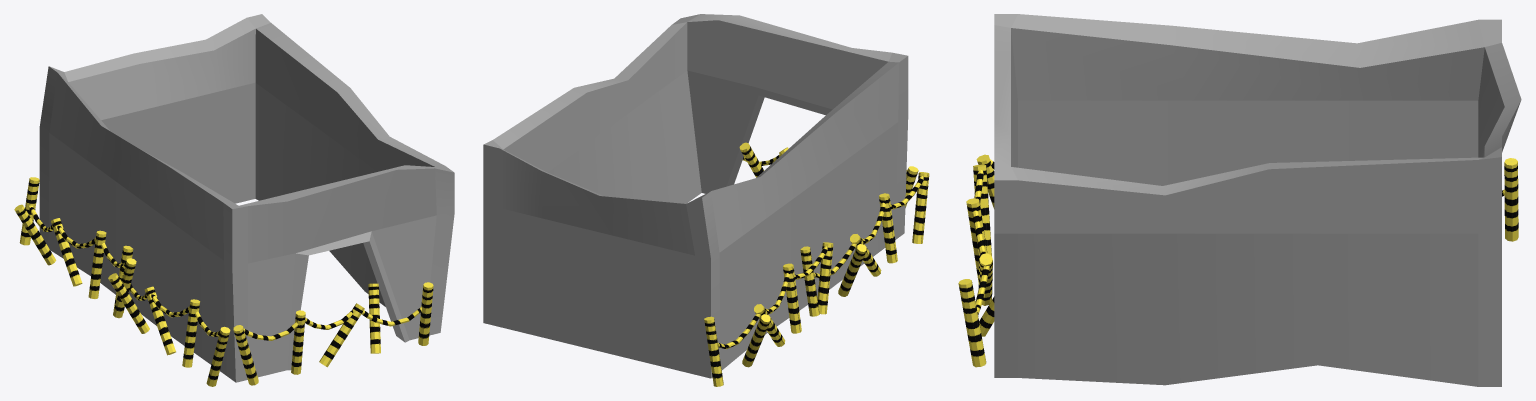
File: Casa_4x6.fbx
3 renders of one model, left to right at view 1: azimuth 30°, elevation 25°; view 2: azimuth 150°, elevation 25°; view 3: azimuth 270°, elevation 25°, orthographic. The views are drawn at different scales.
Visible parts, largest first — view 1: Casa_4x6; view 2: Casa_4x6; view 3: Casa_4x6.
Part boxes in pixels (x1,y1,x2,y2): Casa_4x6: [14, 14, 454, 386]; Casa_4x6: [483, 14, 929, 386]; Casa_4x6: [958, 14, 1521, 386].
Bounding box in the file's own units: 474 × 306 × 665.
3 materials, 2 textured.
